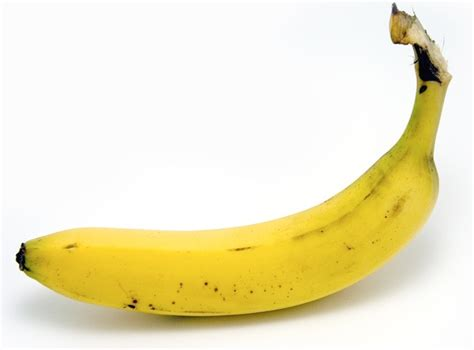banana: (12, 139, 448, 320)
